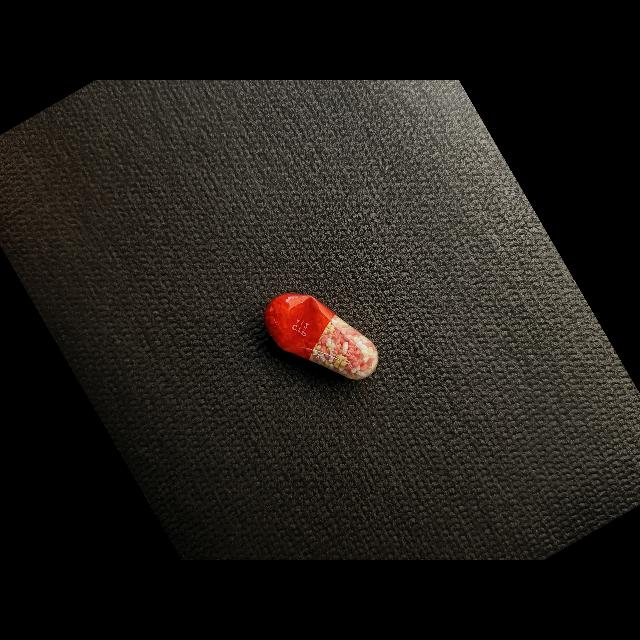Defective Capsule: (265, 293, 379, 380)
